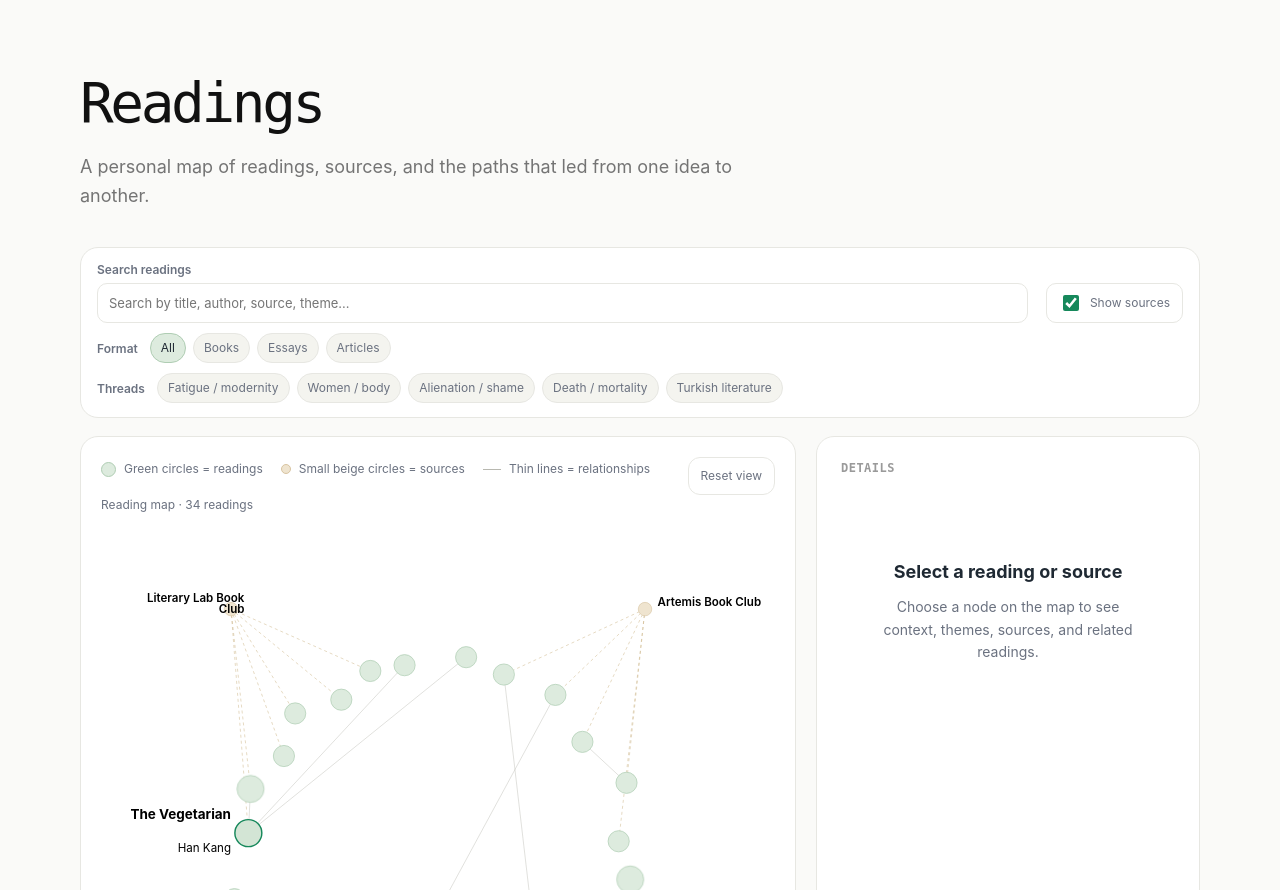
Test: ReadingsPage V2 › supports keyboard selection and clears a selection hidden by search
Press Enter
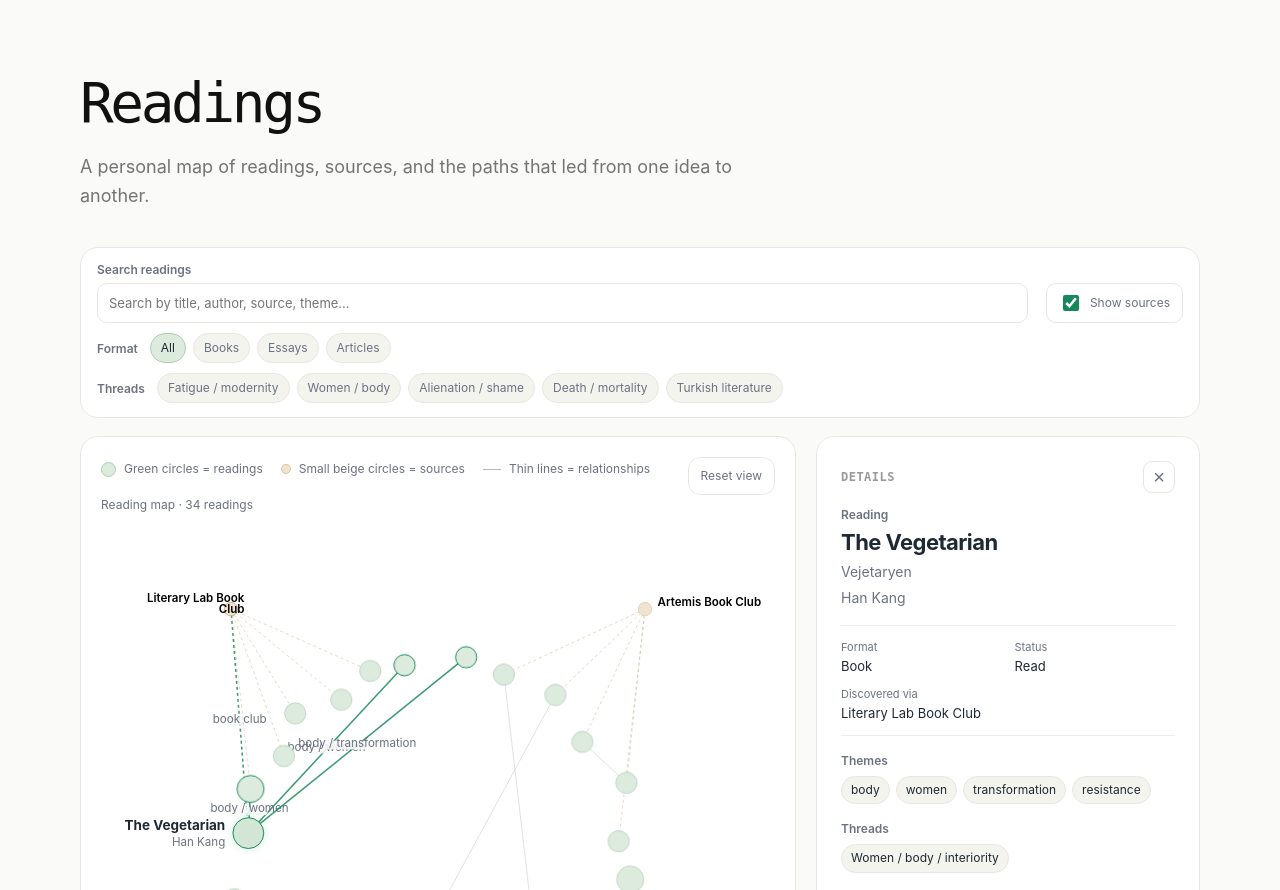
Check: the heading "The Vegetarian" is shown, box [841,529,998,555]
In the search field labelled "Search readings": coordinates (562, 303) [97,283,1028,323], type "not in this archive"
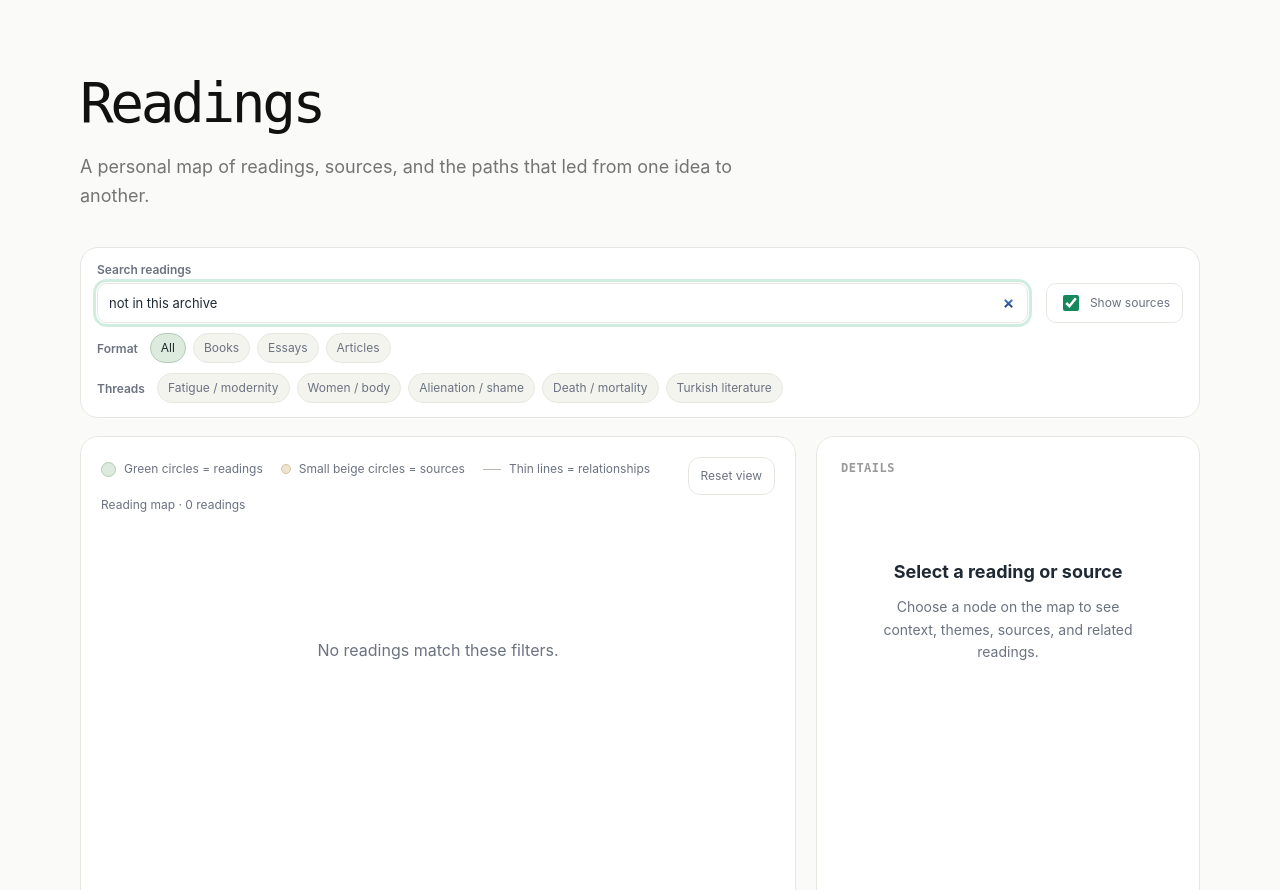
Check: the text "No readings match these filters." is shown, box [317,640,558,660]
Check: the heading "Select a reading or source" is shown, box [894,558,1122,587]
